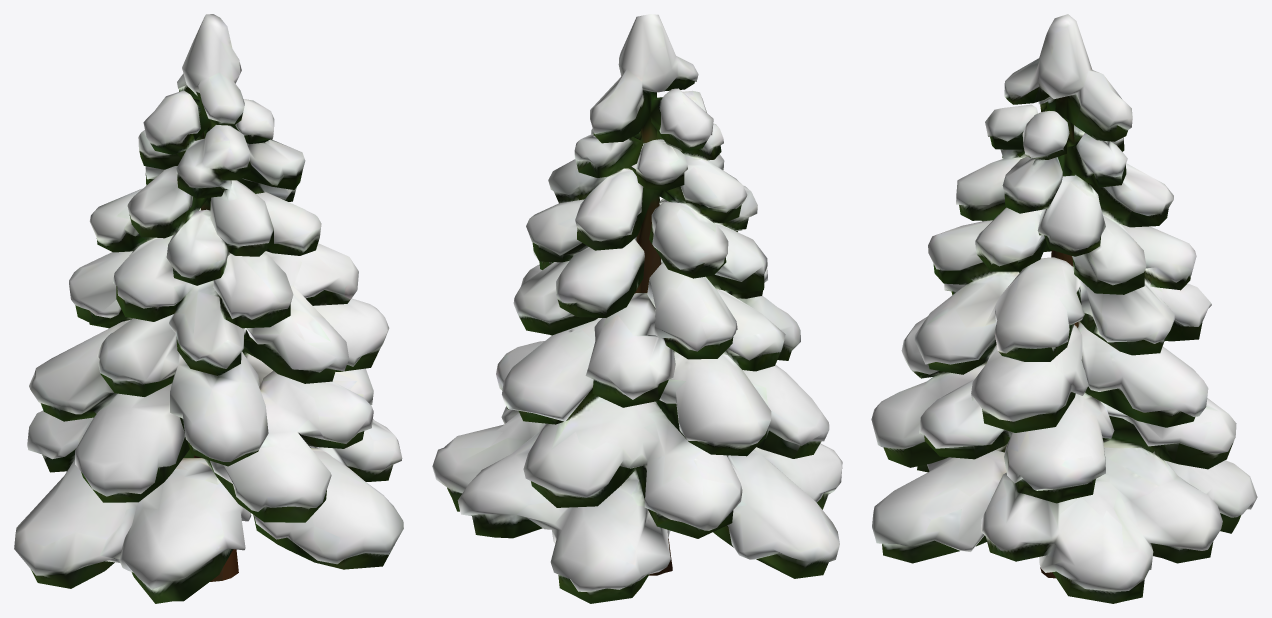
Rendered from prop_star_pine.glb.
3 views of the same model, side by side, from view 1: azimuth 30°, elevation 25°; view 2: azimuth 150°, elevation 25°; view 3: azimuth 270°, elevation 25° (orthographic).
Parts seen in each view (by area): view 1: tripo_node_7b9e1c38-6838-4a55-aedb-74692127757b; view 2: tripo_node_7b9e1c38-6838-4a55-aedb-74692127757b; view 3: tripo_node_7b9e1c38-6838-4a55-aedb-74692127757b.
Part boxes in pixels (x1,y1,x2,y2): tripo_node_7b9e1c38-6838-4a55-aedb-74692127757b: (14, 14, 403, 603); tripo_node_7b9e1c38-6838-4a55-aedb-74692127757b: (432, 14, 842, 603); tripo_node_7b9e1c38-6838-4a55-aedb-74692127757b: (871, 14, 1257, 603).
Size of the model in its own units: 0.6949 by 0.9767 by 0.6181.
Materials: 1 (1 with a texture image).
